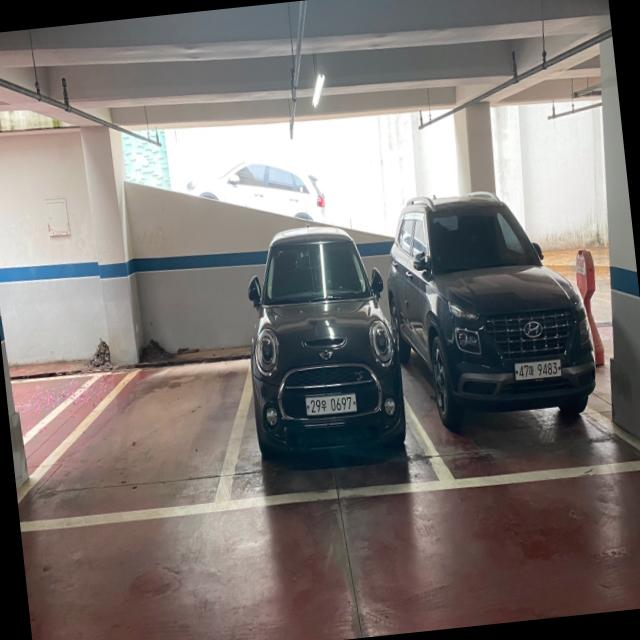car: (400, 176, 598, 424), (239, 215, 412, 468)
free: (16, 356, 256, 532)
